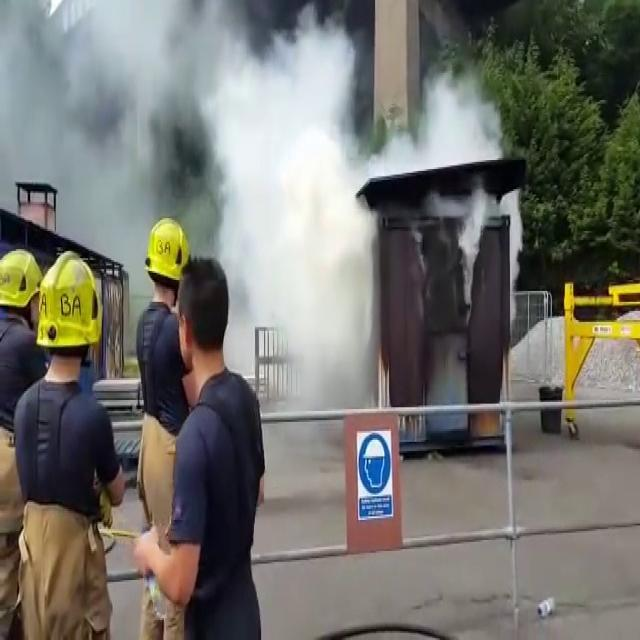Smoke: (200, 34, 378, 414), (402, 76, 487, 136)
